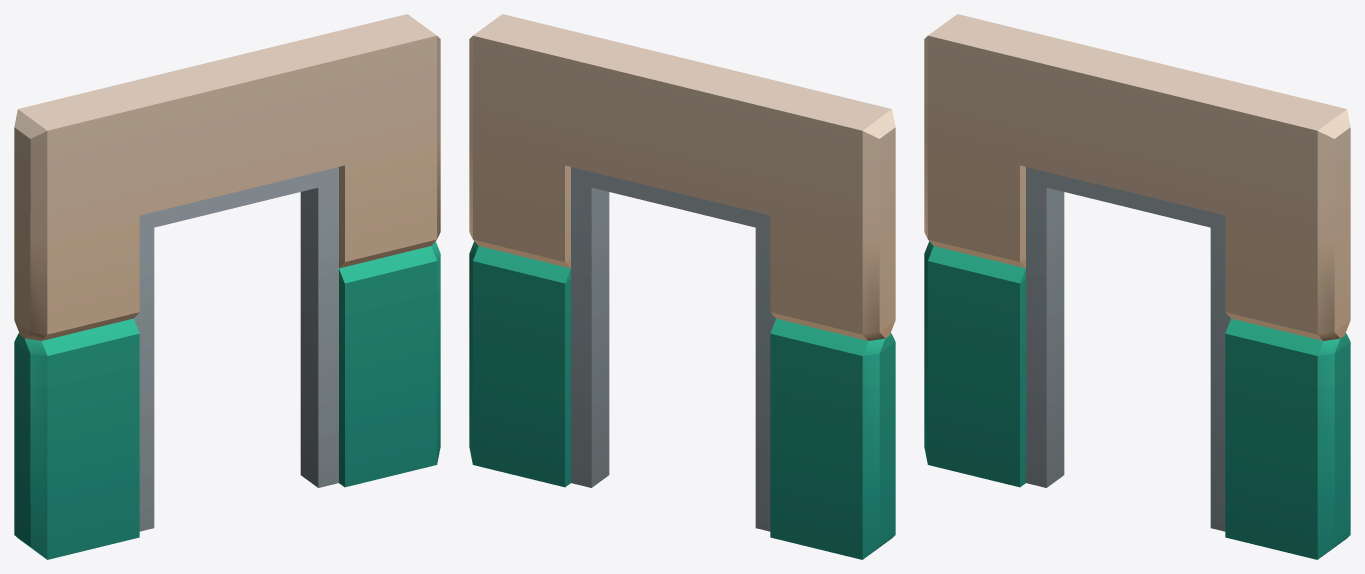
Rendered from door_in.glb.
3 views of the same model, side by side, from view 1: azimuth 30°, elevation 25°; view 2: azimuth 150°, elevation 25°; view 3: azimuth 330°, elevation 25° (orthographic).
Visible parts, largest first — view 1: wall_doorway; view 2: wall_doorway; view 3: wall_doorway.
Part boxes in pixels (left/top/right/bottom): wall_doorway: left=14, top=14, right=440, bottom=559; wall_doorway: left=469, top=14, right=895, bottom=559; wall_doorway: left=924, top=14, right=1350, bottom=559.
Bounding box in the file's own units: 4 × 4 × 0.5.
Materials: 1 (1 with a texture image).
